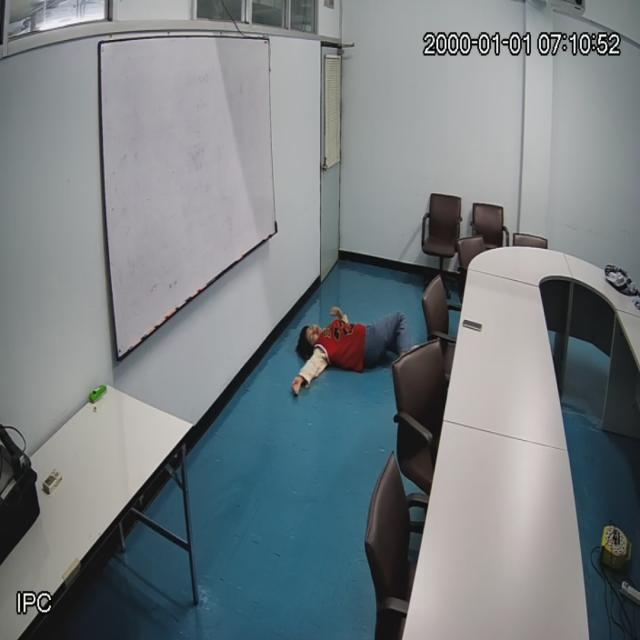fall: (288, 306, 415, 400)
